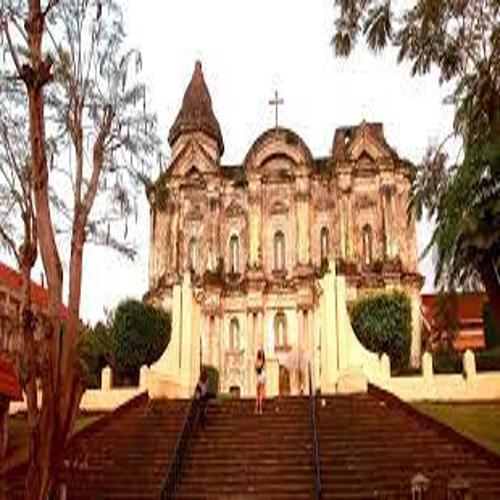Taal Basilica Church: (135, 47, 434, 406)
